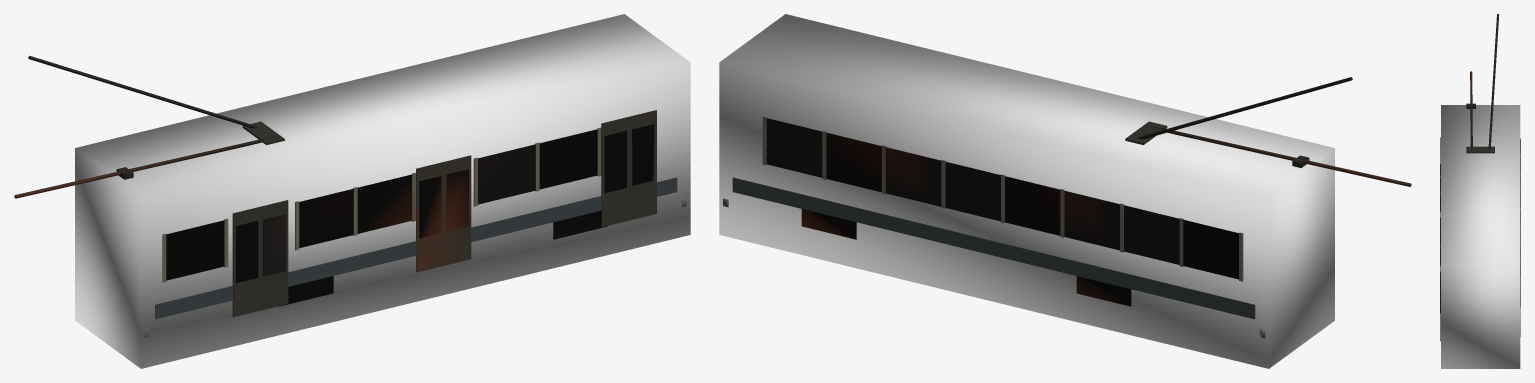
Rendered from trolebus.glb.
The picture shows the model from 3 angles, left to right: view 1: azimuth 30°, elevation 25°; view 2: azimuth 150°, elevation 25°; view 3: azimuth 270°, elevation 25°; orthographic projection. The views are drawn at different scales.
Parts seen in each view (by area): view 1: trolebus-colcaja, trolebus; view 2: trolebus-colcaja, trolebus; view 3: trolebus-colcaja, trolebus.
Boxes of the visible parts, left/top/right/bottom form: trolebus-colcaja: left=75, top=14, right=690, bottom=368; trolebus: left=14, top=55, right=686, bottom=338; trolebus-colcaja: left=719, top=14, right=1334, bottom=368; trolebus: left=723, top=77, right=1411, bottom=338; trolebus-colcaja: left=1441, top=105, right=1520, bottom=368; trolebus: left=1440, top=14, right=1520, bottom=341.
Size of the model in its own units: 14.2 by 6.13 by 2.56.
